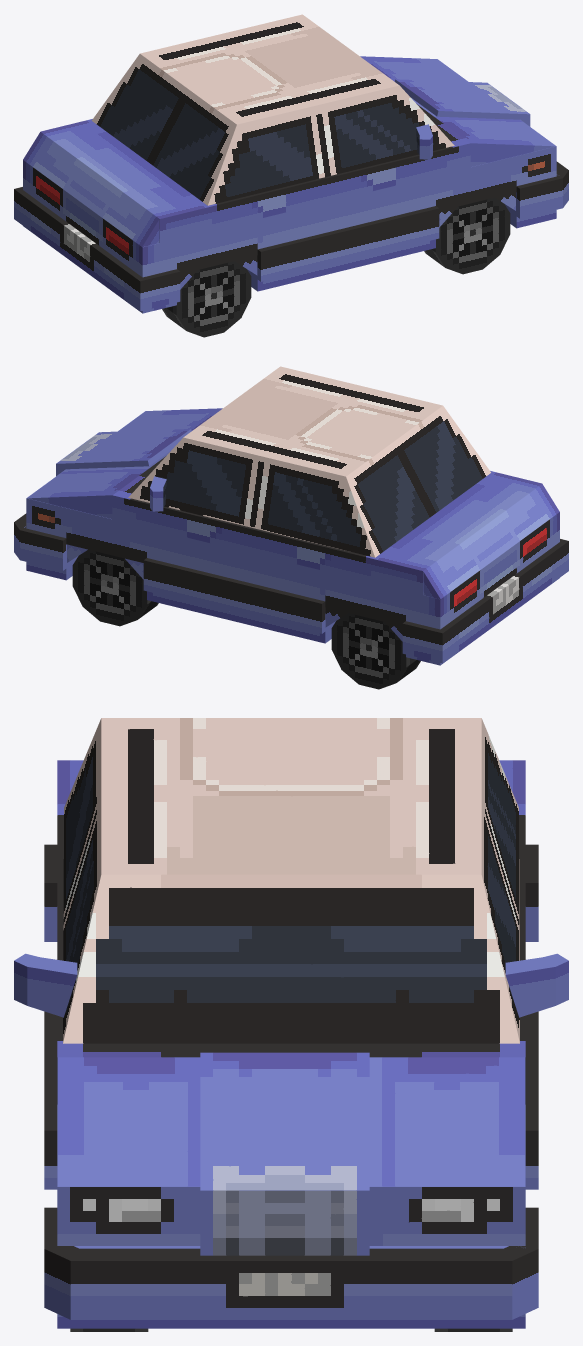
File: car1_3.gltf
The picture shows the model from 3 angles, top to bottom: view 1: azimuth 30°, elevation 25°; view 2: azimuth 150°, elevation 25°; view 3: azimuth 270°, elevation 25°; orthographic projection. The views are drawn at different scales.
Parts seen in each view (by area): view 1: cube (×12), cuboid (×2), cylinder (×2); view 2: cube (×12), cuboid (×2), cylinder (×2); view 3: cube (×11), cuboid (×3).
Boxes of the visible parts, box(x1,y1,x2,y2) form: cube (×12): box(14, 56, 562, 313); cuboid (×2): box(92, 14, 454, 205); cylinder (×2): box(162, 197, 510, 337); cube (×12): box(20, 408, 568, 665); cuboid (×2): box(128, 366, 490, 557); cylinder (×2): box(72, 549, 420, 689); cube (×11): box(44, 760, 538, 1328); cuboid (×3): box(14, 718, 568, 1043).
Size of the model in its own units: 6.06 by 2.62 by 3.41.
1 material, 1 textured.
